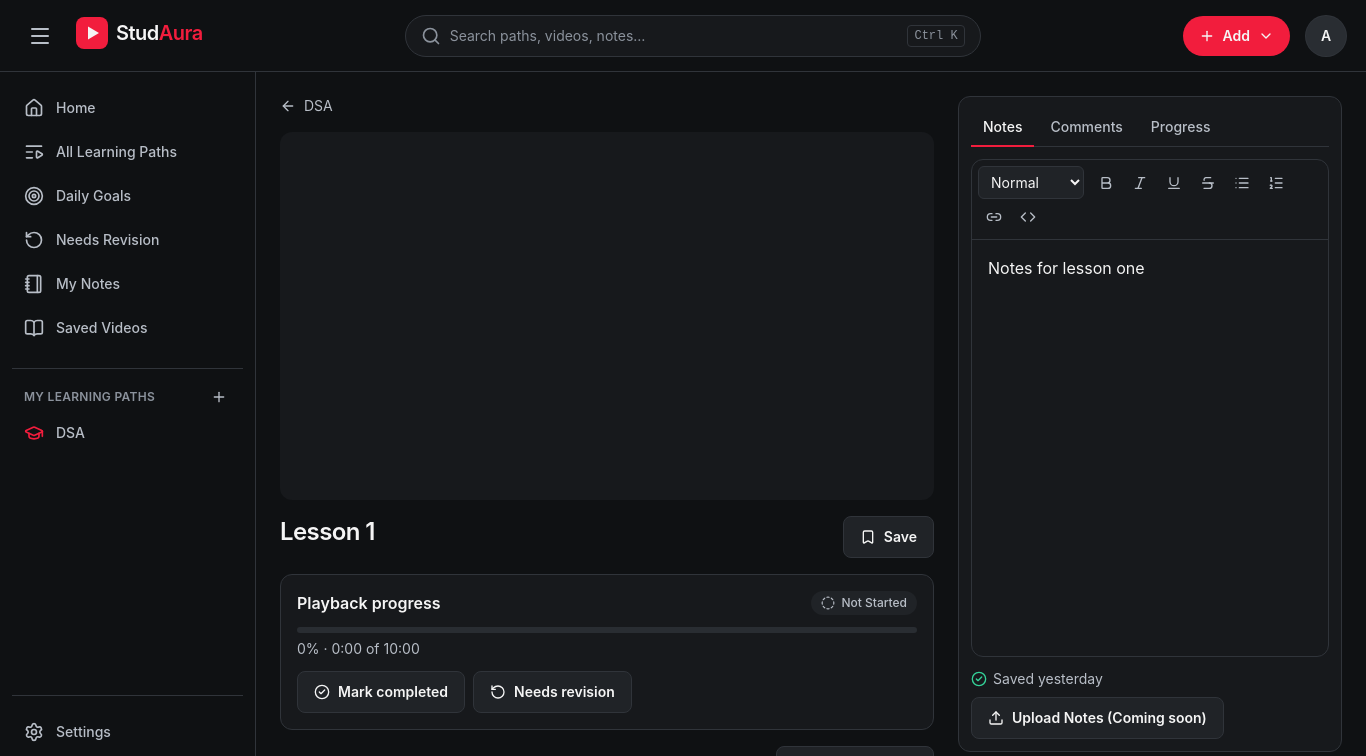
Test: Upload Notes › lives in the notes panel and opens the coming-soon modal
The width and height of the screenshot is (1366, 756).
What coordinates should you click on to do the following:
click the button "Upload Notes (Coming soon)"
I would click on:
 (1097, 718)
Its box is [971, 697, 1224, 739].
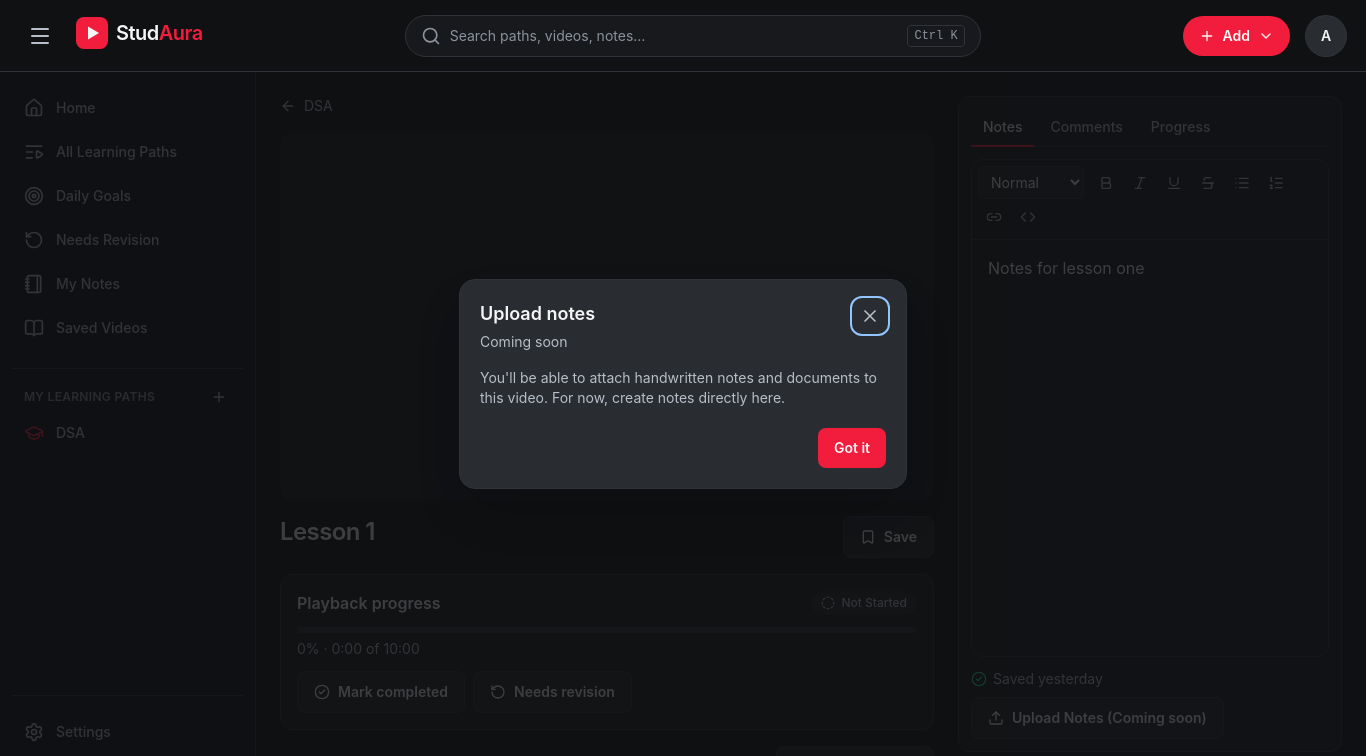
Now the dialog "Upload notes" is shown, box [459, 279, 907, 489]
